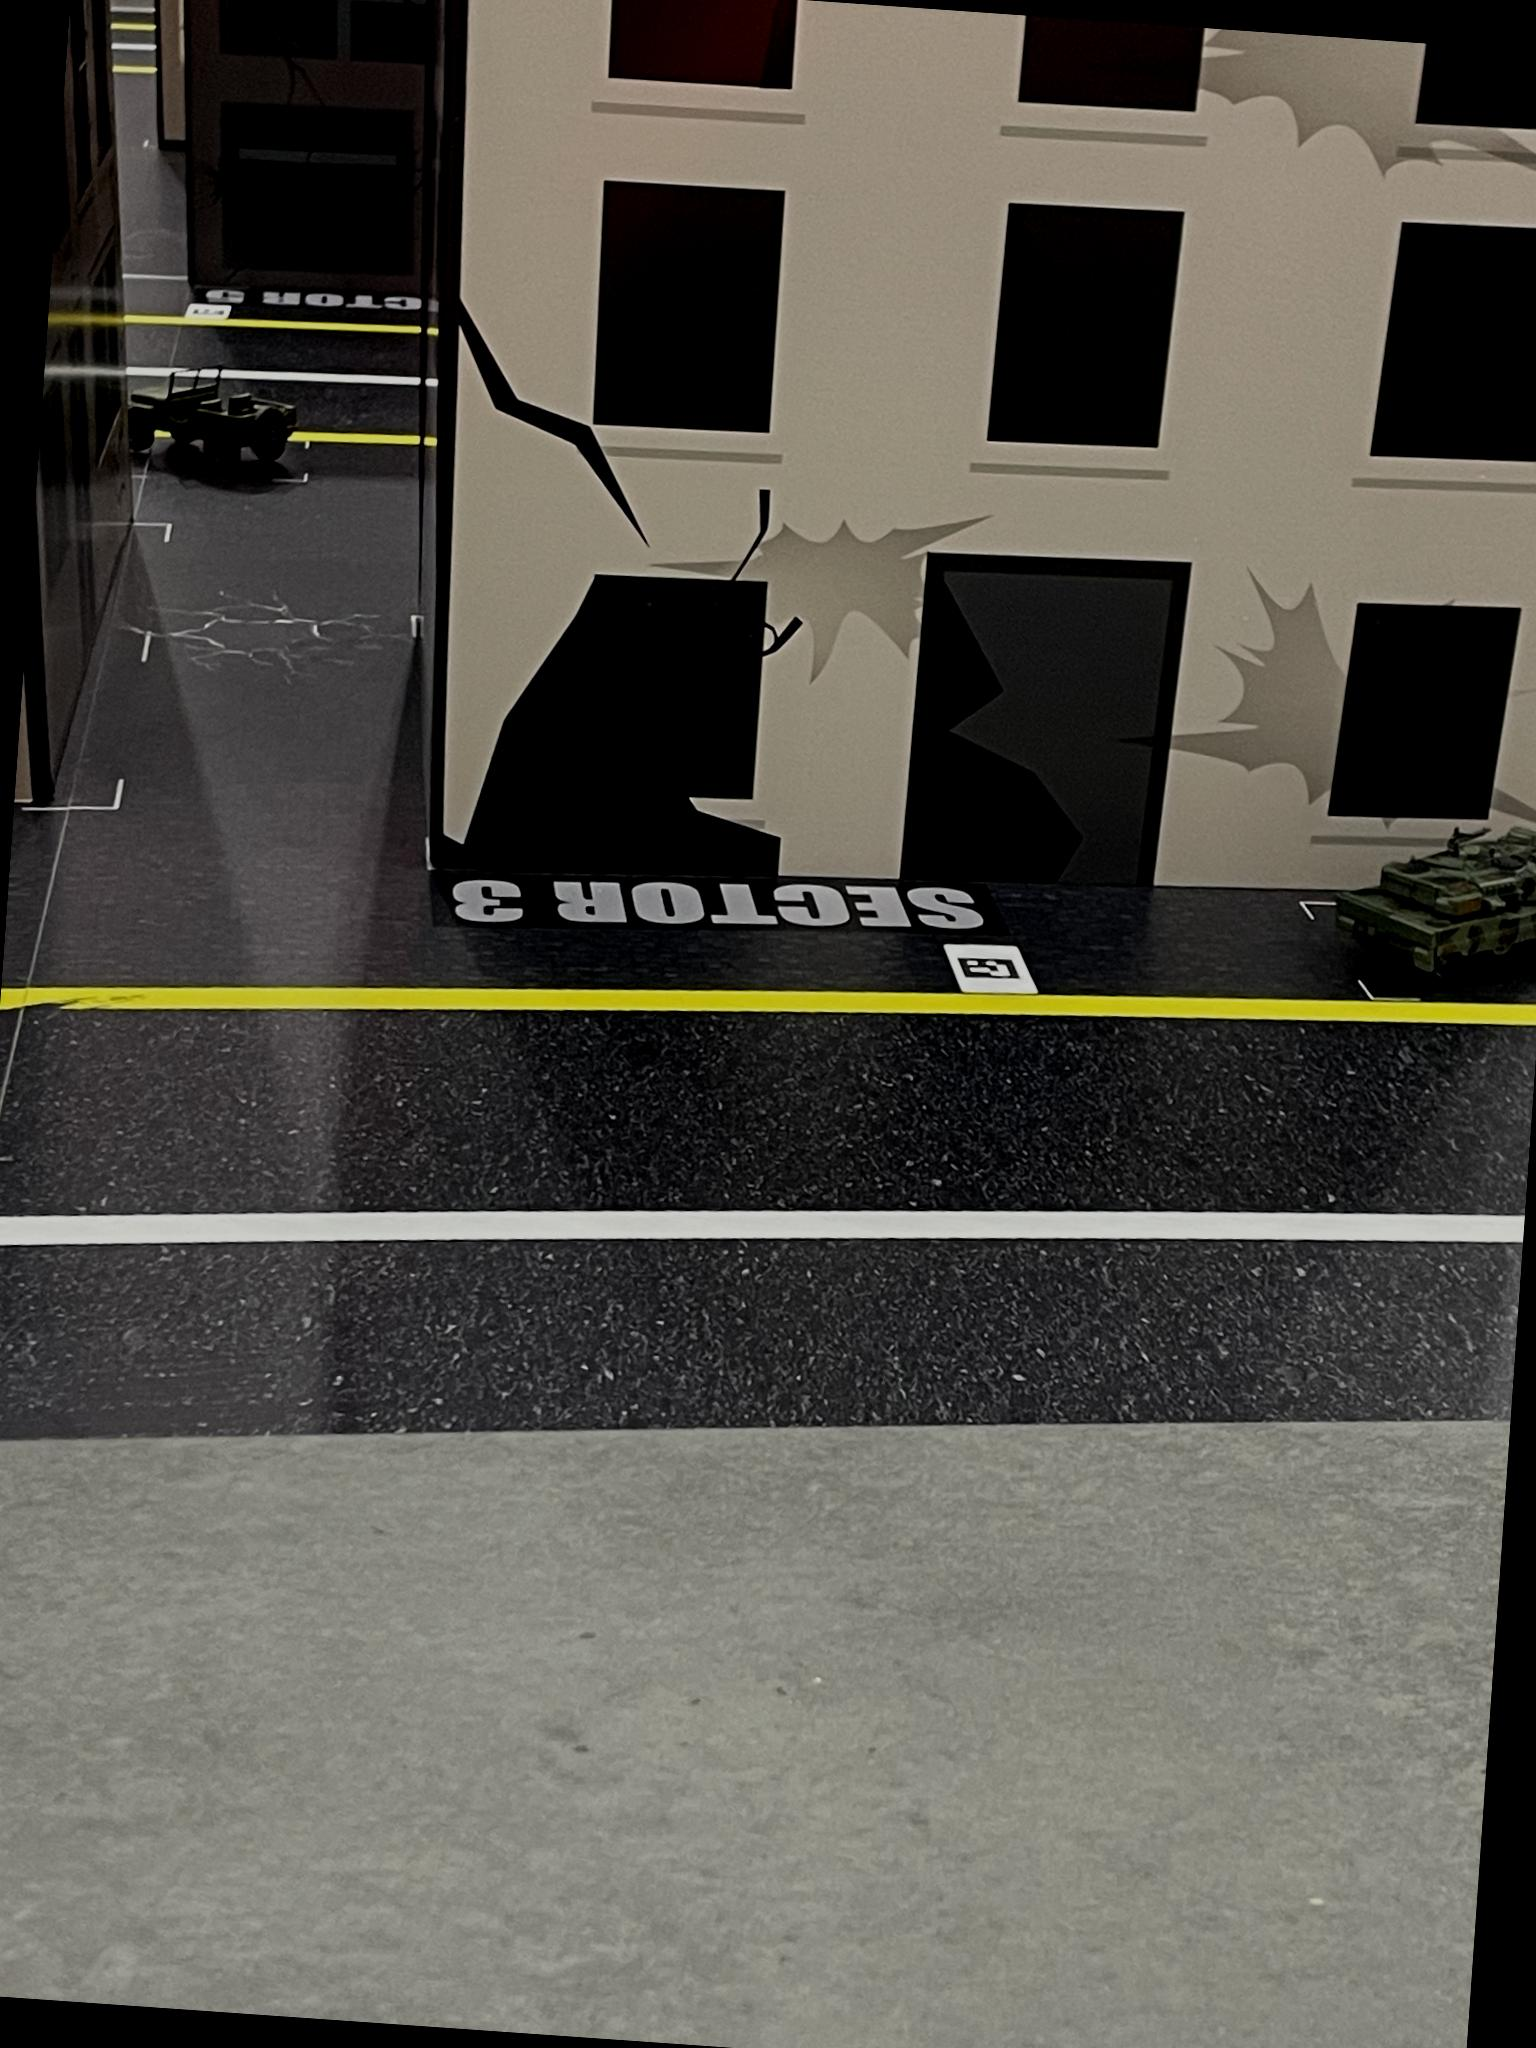Car: (126, 335, 308, 479)
Tank: (1341, 814, 1536, 1019)
